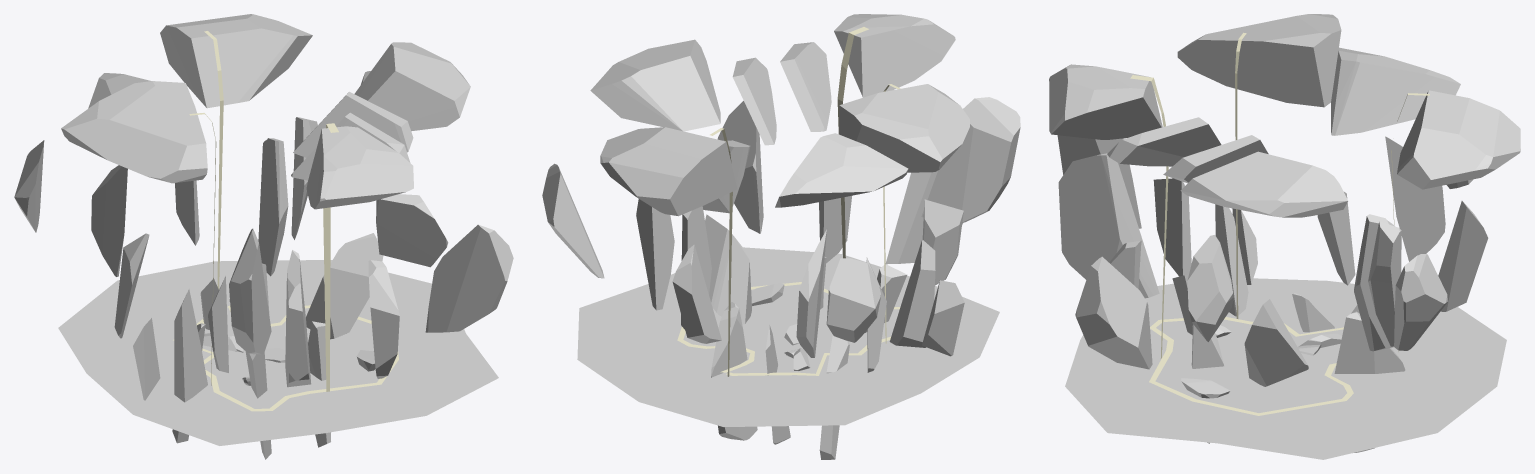
File: Final Island Full Final.fbx
The picture shows the model from 3 angles, left to right: view 1: azimuth 30°, elevation 25°; view 2: azimuth 150°, elevation 25°; view 3: azimuth 270°, elevation 25°; orthographic projection. The views are drawn at different scales.
Visible parts, largest first — view 1: Rock Pillars.001_cell.051_cell.003, Ground.001, Water.004; view 2: Rock Pillars.001_cell.051_cell.003, Ground.001, Water.004; view 3: Rock Pillars.001_cell.051_cell.003, Ground.001, Water.004.
Boxes of the visible parts, bbox=[...] form: Rock Pillars.001_cell.051_cell.003: bbox=[14, 14, 513, 459]; Ground.001: bbox=[58, 260, 498, 445]; Water.004: bbox=[173, 31, 398, 411]; Rock Pillars.001_cell.051_cell.003: bbox=[542, 14, 1020, 459]; Ground.001: bbox=[577, 247, 999, 426]; Water.004: bbox=[677, 27, 900, 376]; Rock Pillars.001_cell.051_cell.003: bbox=[1049, 14, 1520, 452]; Ground.001: bbox=[1065, 278, 1506, 459]; Water.004: bbox=[1130, 32, 1429, 415].
Size of the model in its own units: 6826 by 6285 by 7140.
